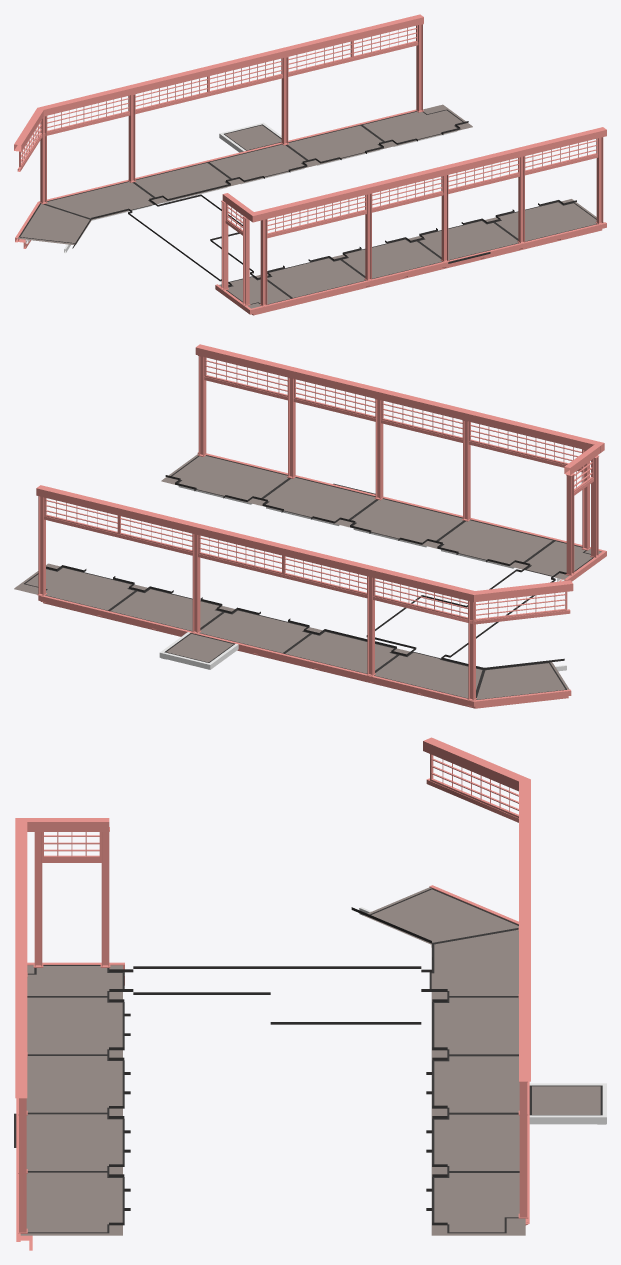
The model's file is SM_H_Building_Tide_Jail_A_03j_ATLAS.fbx.
The picture shows the model from 3 angles, top to bottom: view 1: azimuth 30°, elevation 25°; view 2: azimuth 150°, elevation 25°; view 3: azimuth 270°, elevation 25°; orthographic projection. The views are drawn at different scales.
Visible parts, largest first — view 1: SM_H_Building_Tide_Jail_A_03j_ATLAS; view 2: SM_H_Building_Tide_Jail_A_03j_ATLAS; view 3: SM_H_Building_Tide_Jail_A_03j_ATLAS.
Boxes of the visible parts, bbox=[...] form: SM_H_Building_Tide_Jail_A_03j_ATLAS: bbox=[14, 14, 606, 315]; SM_H_Building_Tide_Jail_A_03j_ATLAS: bbox=[14, 344, 606, 708]; SM_H_Building_Tide_Jail_A_03j_ATLAS: bbox=[14, 737, 606, 1250].
Size of the model in its own units: 3272 by 2336 by 706.
